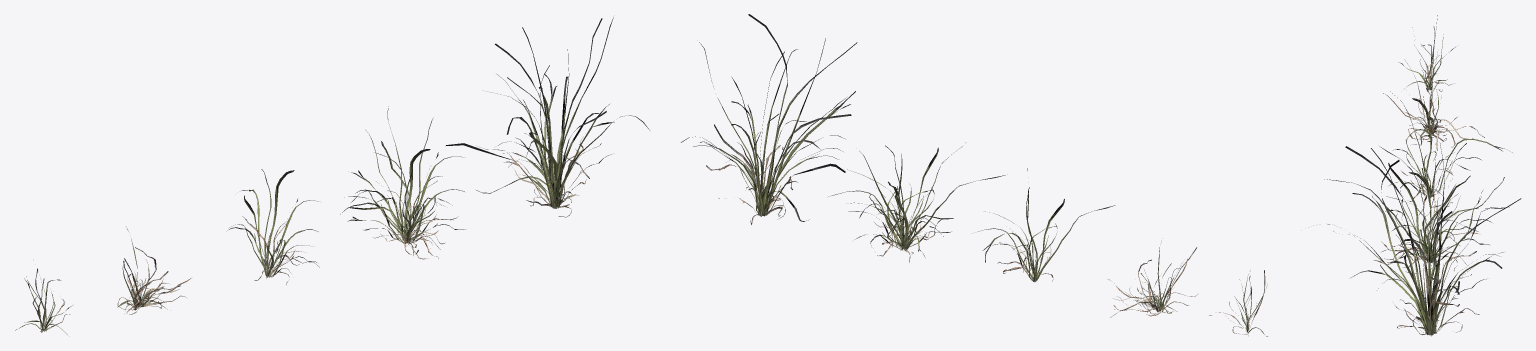
File: grass_medium_02_lod1.glb
The picture shows the model from 3 angles, left to right: view 1: azimuth 30°, elevation 25°; view 2: azimuth 150°, elevation 25°; view 3: azimuth 270°, elevation 25°; orthographic projection. The views are drawn at different scales.
Visible parts, largest first — view 1: grass_medium_02_a; view 2: grass_medium_02_a; view 3: grass_medium_02_a.
Part boxes in pixels (x1,y1,x2,y2): grass_medium_02_a: (15, 17, 649, 334); grass_medium_02_a: (681, 14, 1267, 336); grass_medium_02_a: (1324, 15, 1521, 336).
Size of the model in its own units: 1.31 by 0.4053 by 0.4326.
1 material, 1 textured.
